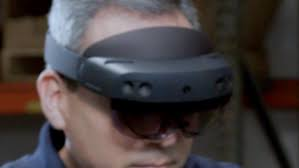hololens: (41, 26, 237, 140)
